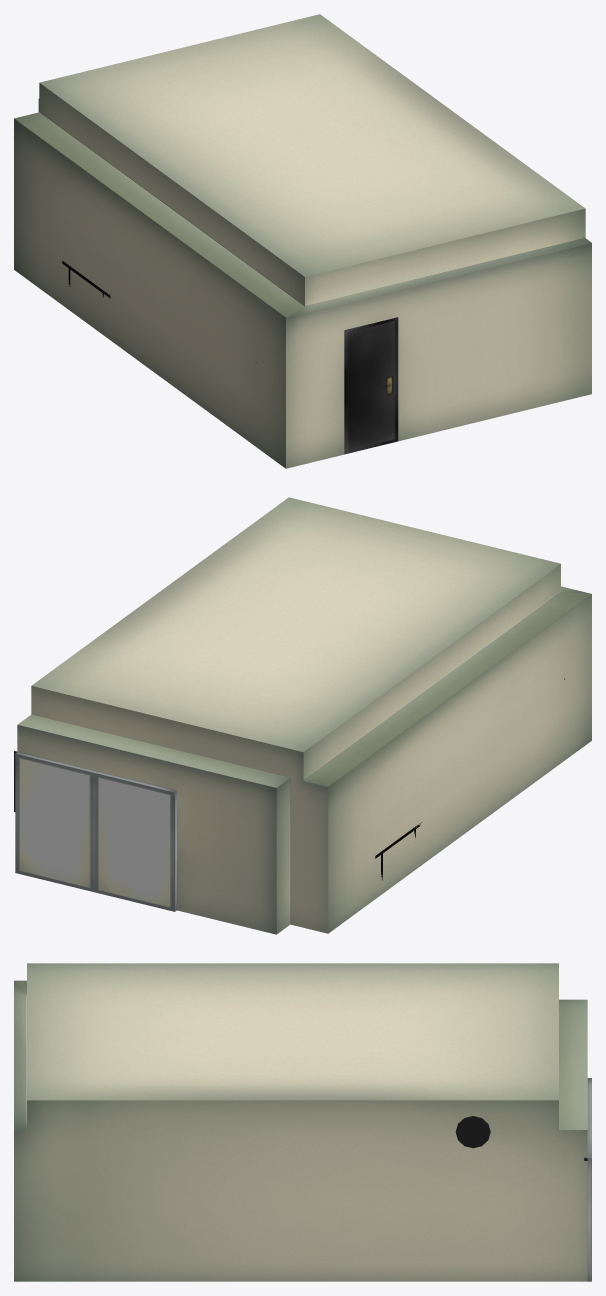
3 renders of one model, top to bottom at view 1: azimuth 30°, elevation 25°; view 2: azimuth 150°, elevation 25°; view 3: azimuth 270°, elevation 25°, orthographic. The views are drawn at different scales.
Parts seen in each view (by area): view 1: m01_o_wall_01_00_0, m01_o_wall_01_01_0, m01_o_wall_01_04_0; view 2: m01_o_wall_01_00_0, m01_o_wall_01_04_0, m01_o_wall_01_03_0, m01_o_wall_01_03_window_0; view 3: m01_o_wall_01_02_0, m01_o_wall_01_00_0, m01_o_wall_01_03_0, m01_o_wall_01_01_0, m01_o_wall_01_03_window_0, m01_o_wallobj01_00_0.
Boxes of the visible parts, box(x1,y1,x2,y2) form: m01_o_wall_01_00_0: box(40, 14, 585, 276); m01_o_wall_01_01_0: box(286, 208, 591, 468); m01_o_wall_01_04_0: box(14, 83, 304, 468); m01_o_wall_01_00_0: box(31, 497, 560, 752); m01_o_wall_01_04_0: box(303, 564, 591, 933); m01_o_wall_01_03_0: box(17, 686, 328, 934); m01_o_wall_01_03_window_0: box(15, 752, 176, 911); m01_o_wall_01_02_0: box(14, 1100, 587, 1281); m01_o_wall_01_00_0: box(27, 963, 558, 1100); m01_o_wall_01_03_0: box(559, 999, 587, 1129); m01_o_wall_01_01_0: box(14, 981, 26, 1129); m01_o_wall_01_03_window_0: box(587, 1078, 591, 1281); m01_o_wallobj01_00_0: box(455, 1116, 490, 1148).
Size of the model in its own units: 7.43 by 4.13 by 11.9.
